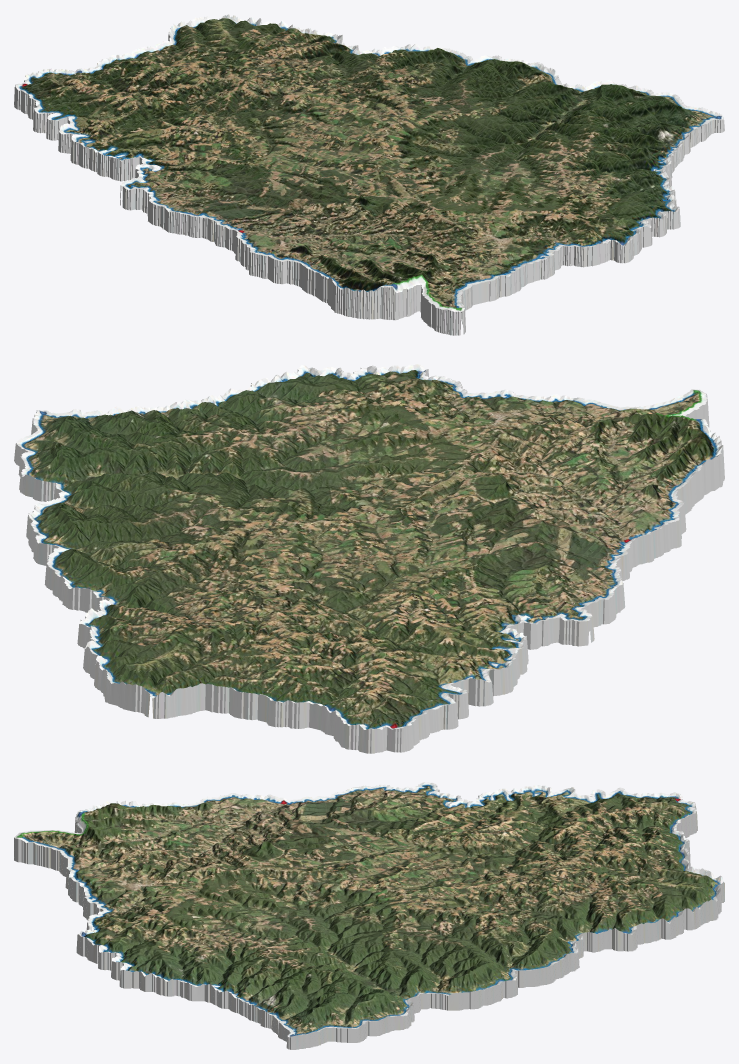
3 renders of one model, top to bottom at view 1: azimuth 30°, elevation 25°; view 2: azimuth 150°, elevation 25°; view 3: azimuth 270°, elevation 25°, orthographic. The views are drawn at different scales.
Bounding box in the file's own units: 1 × 0.0617 × 1.21.
Materials: 1 (1 with a texture image).
